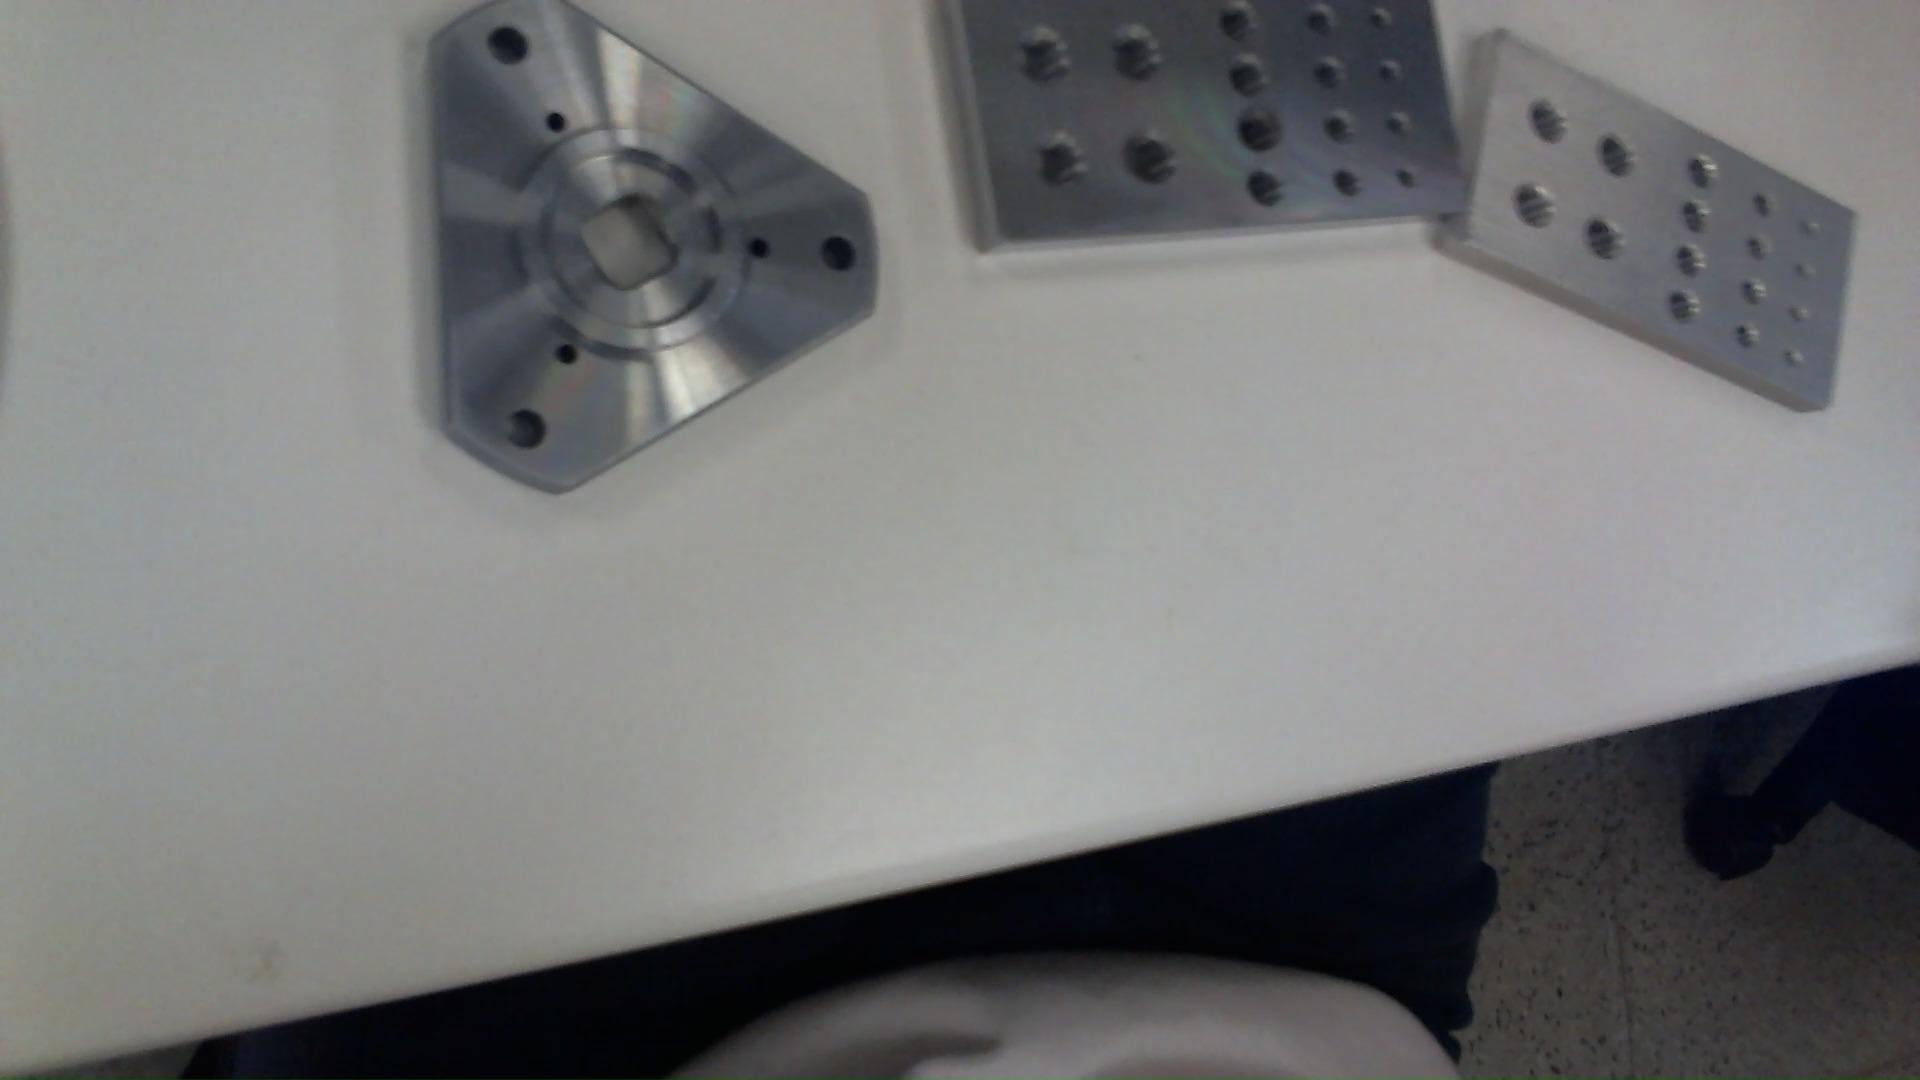hole: (1501, 174, 1560, 239), (1027, 128, 1084, 195), (1125, 125, 1180, 189), (1010, 33, 1063, 88), (498, 398, 550, 455), (1581, 210, 1625, 273), (1220, 58, 1274, 108), (483, 25, 533, 76), (1526, 95, 1573, 149), (1113, 26, 1159, 82), (1242, 166, 1291, 218), (1592, 129, 1640, 178), (1242, 104, 1284, 156), (811, 231, 855, 280), (1212, 5, 1258, 49), (1664, 286, 1705, 331), (1302, 58, 1345, 95), (1321, 109, 1356, 156), (1683, 146, 1716, 191), (1370, 0, 1403, 42), (1677, 195, 1713, 232), (1331, 161, 1364, 198), (1673, 244, 1705, 280), (1731, 316, 1760, 353), (1367, 62, 1399, 94), (1300, 9, 1333, 40), (1749, 186, 1776, 220), (541, 104, 568, 133), (746, 228, 773, 258), (1739, 277, 1766, 306), (1746, 232, 1771, 262), (550, 340, 578, 367), (1383, 113, 1408, 142), (1393, 164, 1418, 191), (1782, 342, 1805, 367), (1788, 307, 1807, 330)
